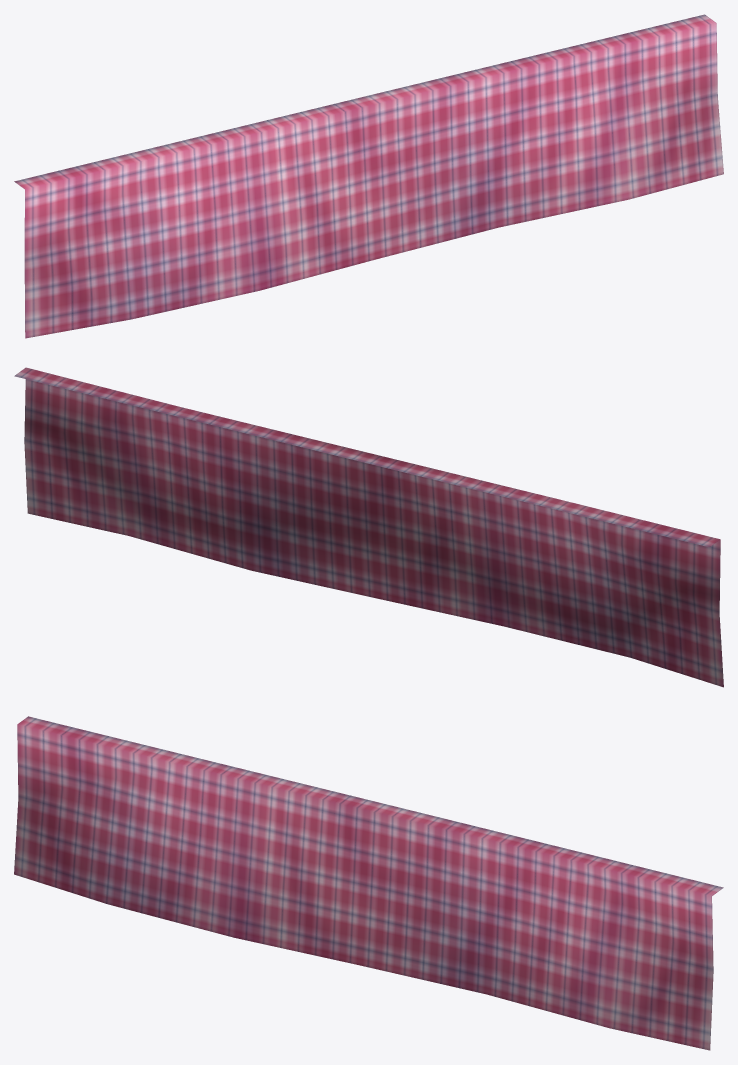
File: jsf_BlindfoldCloth_2P_s01_02.fbx
3 renders of one model, top to bottom at view 1: azimuth 30°, elevation 25°; view 2: azimuth 150°, elevation 25°; view 3: azimuth 330°, elevation 25°, orthographic.
Parts seen in each view (by area): view 1: jsf_BlindfoldCloth_2P_s01_02; view 2: jsf_BlindfoldCloth_2P_s01_02; view 3: jsf_BlindfoldCloth_2P_s01_02.
Part boxes in pixels (x1=…): jsf_BlindfoldCloth_2P_s01_02: x1=14, y1=14, x2=723, y2=338; jsf_BlindfoldCloth_2P_s01_02: x1=14, y1=367, x2=723, y2=687; jsf_BlindfoldCloth_2P_s01_02: x1=14, y1=716, x2=723, y2=1050.
Size of the model in its own units: 146 by 30 by 7.76.
